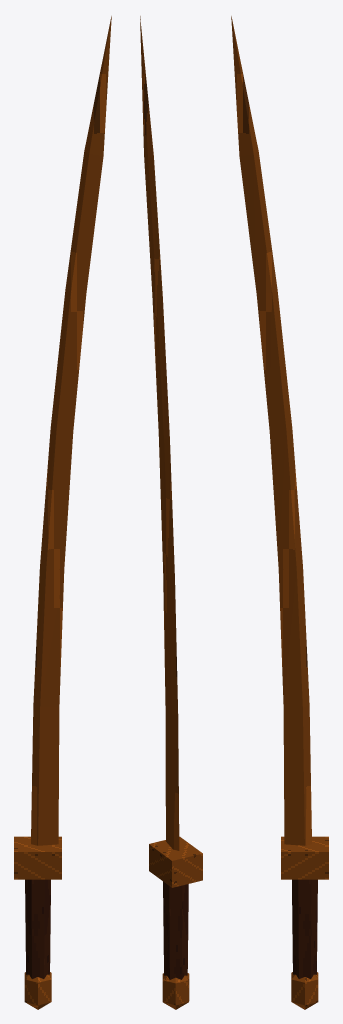
The model's file is sable_bronce.glb.
3 views of the same model, side by side, from view 1: azimuth 90°, elevation 25°; view 2: azimuth 210°, elevation 25°; view 3: azimuth 270°, elevation 25° (orthographic). The views are drawn at different scales.
Parts seen in each view (by area): view 1: hoja, empunadura, guarda, pomo; view 2: hoja, empunadura, guarda, pomo; view 3: hoja, empunadura, guarda, pomo.
Part boxes in pixels (box(x1,y1,x2,y2)): hoja: box(31, 16, 111, 845); empunadura: box(25, 879, 50, 978); guarda: box(14, 836, 61, 879); pomo: box(24, 972, 51, 1009); hoja: box(140, 16, 179, 850); empunadura: box(163, 881, 188, 979); guarda: box(149, 836, 202, 887); pomo: box(162, 973, 189, 1009); hoja: box(231, 16, 311, 845); empunadura: box(292, 879, 317, 978); guarda: box(281, 836, 328, 879); pomo: box(291, 972, 318, 1009).
Bounding box in the file's own units: 0.03 × 0.9 × 0.08.
1 material, 1 textured.
